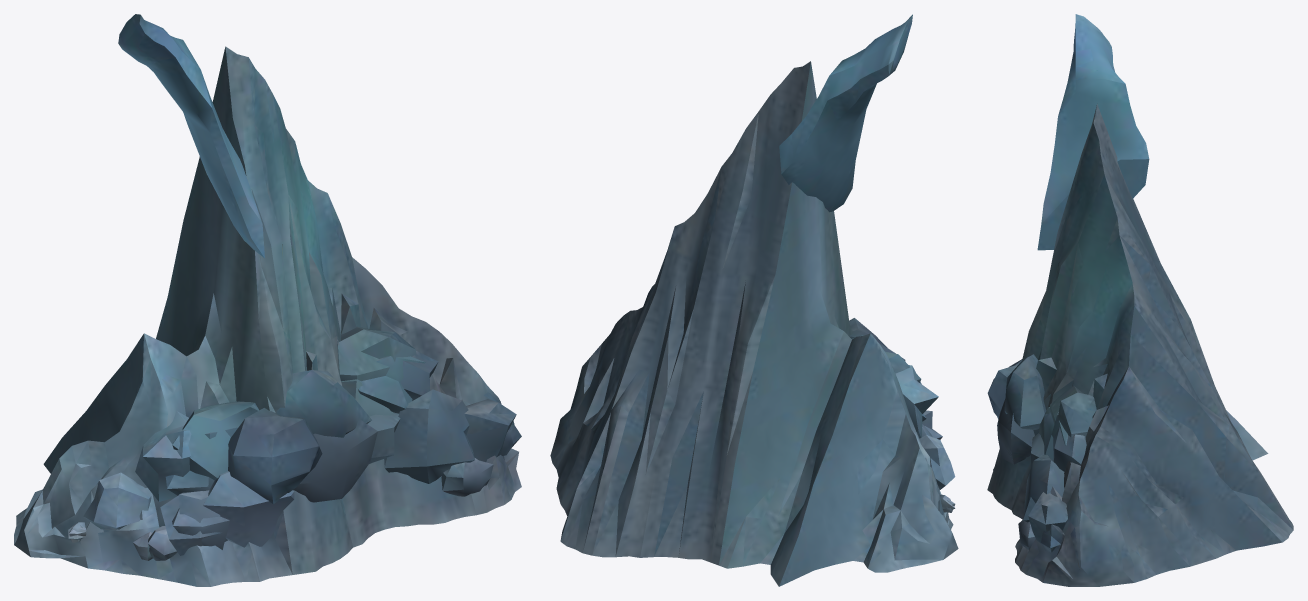
The model's file is lithium-iceberg-huge.glb.
3 renders of one model, left to right at view 1: azimuth 30°, elevation 25°; view 2: azimuth 150°, elevation 25°; view 3: azimuth 270°, elevation 25°, orthographic. The views are drawn at different scales.
Visible parts, largest first — view 1: body; view 2: body; view 3: body.
Part boxes in pixels (x1,y1,x2,y2): body: [14, 14, 521, 586]; body: [550, 14, 958, 586]; body: [987, 14, 1293, 586].
Size of the model in its own units: 4.64 by 5.36 by 3.46.
1 material, 1 textured.
